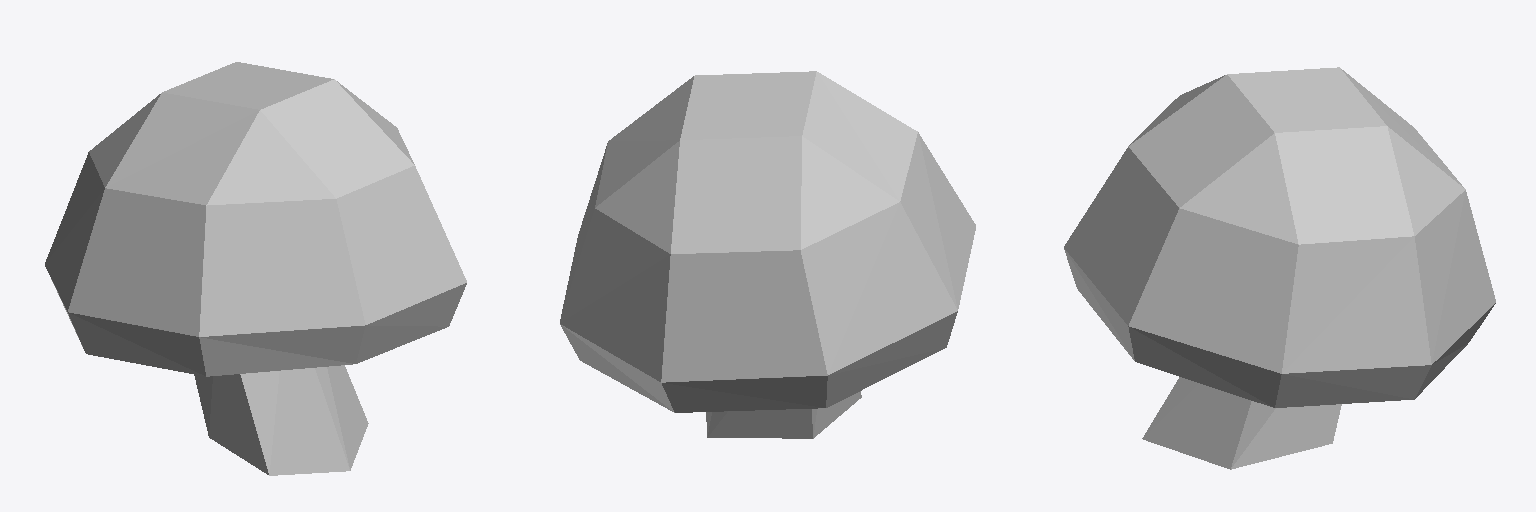
File: White_Mushroom_02.obj
3 views of the same model, side by side, from view 1: azimuth 30°, elevation 25°; view 2: azimuth 150°, elevation 25°; view 3: azimuth 270°, elevation 25° (orthographic).
Parts seen in each view (by area): view 1: White_Mushroom; view 2: White_Mushroom; view 3: White_Mushroom.
Part boxes in pixels (left/top/right/bottom): White_Mushroom: left=45, top=62, right=466, bottom=475; White_Mushroom: left=560, top=71, right=975, bottom=438; White_Mushroom: left=1064, top=67, right=1495, bottom=469.
Size of the model in its own units: 5.41 by 4.67 by 5.36.